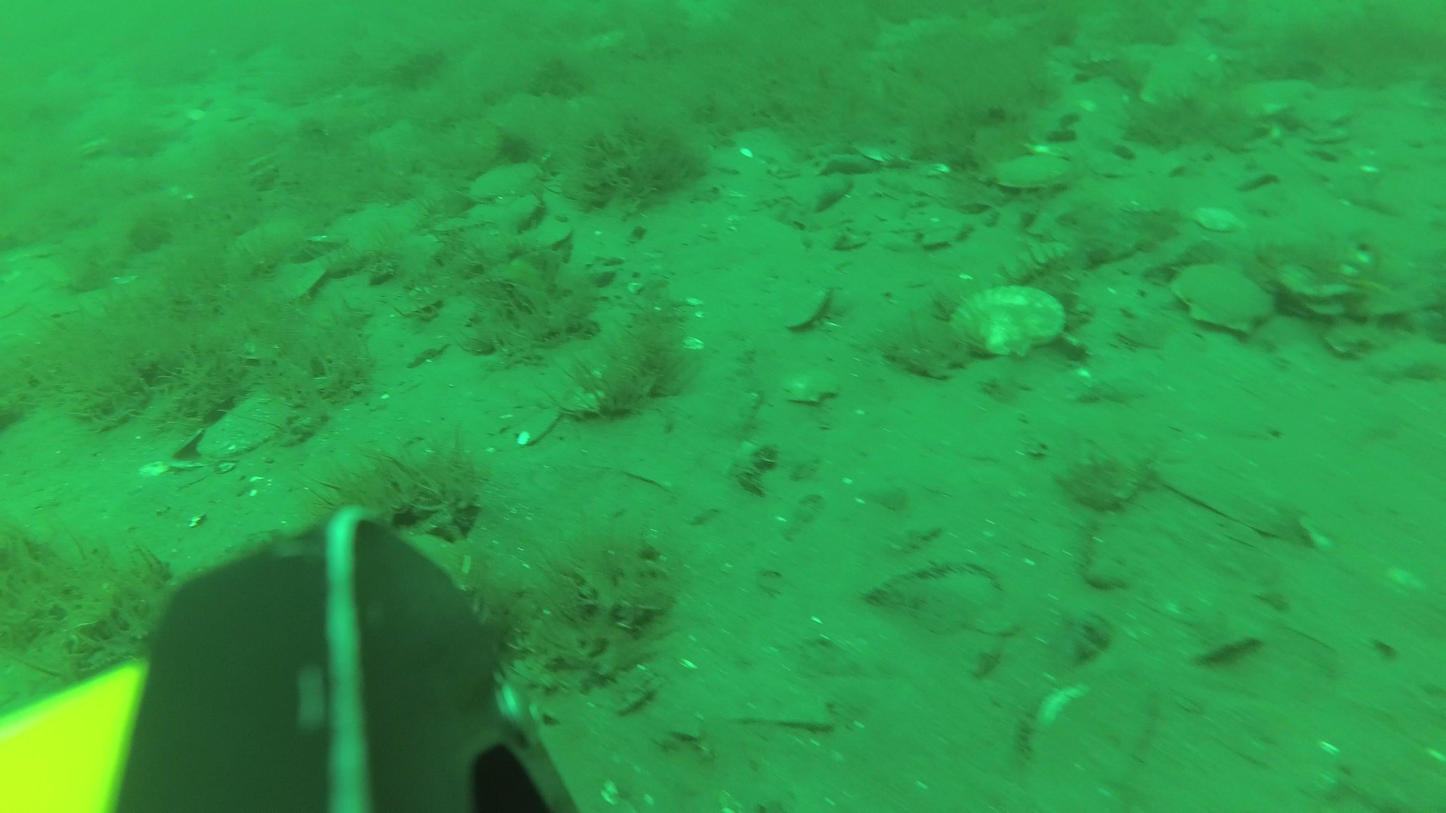scallop: (950, 281, 1074, 366), (1172, 257, 1279, 339), (192, 388, 300, 464), (465, 155, 546, 204), (775, 362, 850, 413), (988, 153, 1081, 194)
